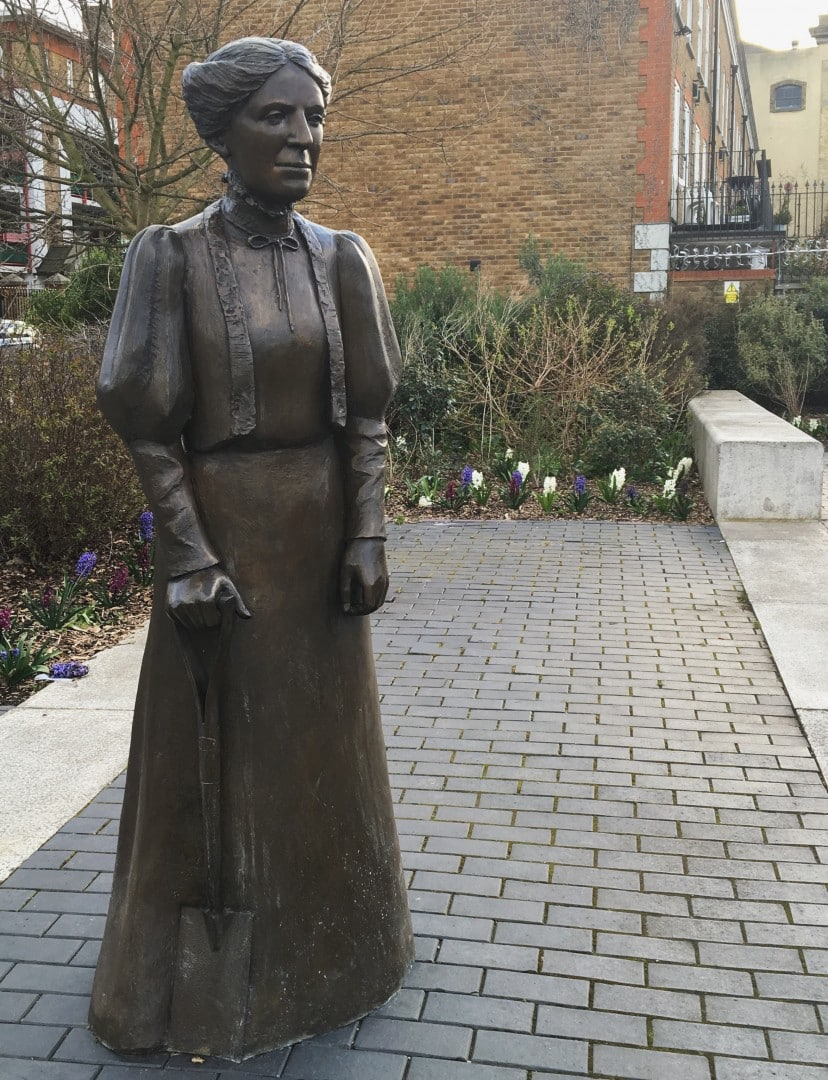person-like: (87, 25, 424, 1072)
